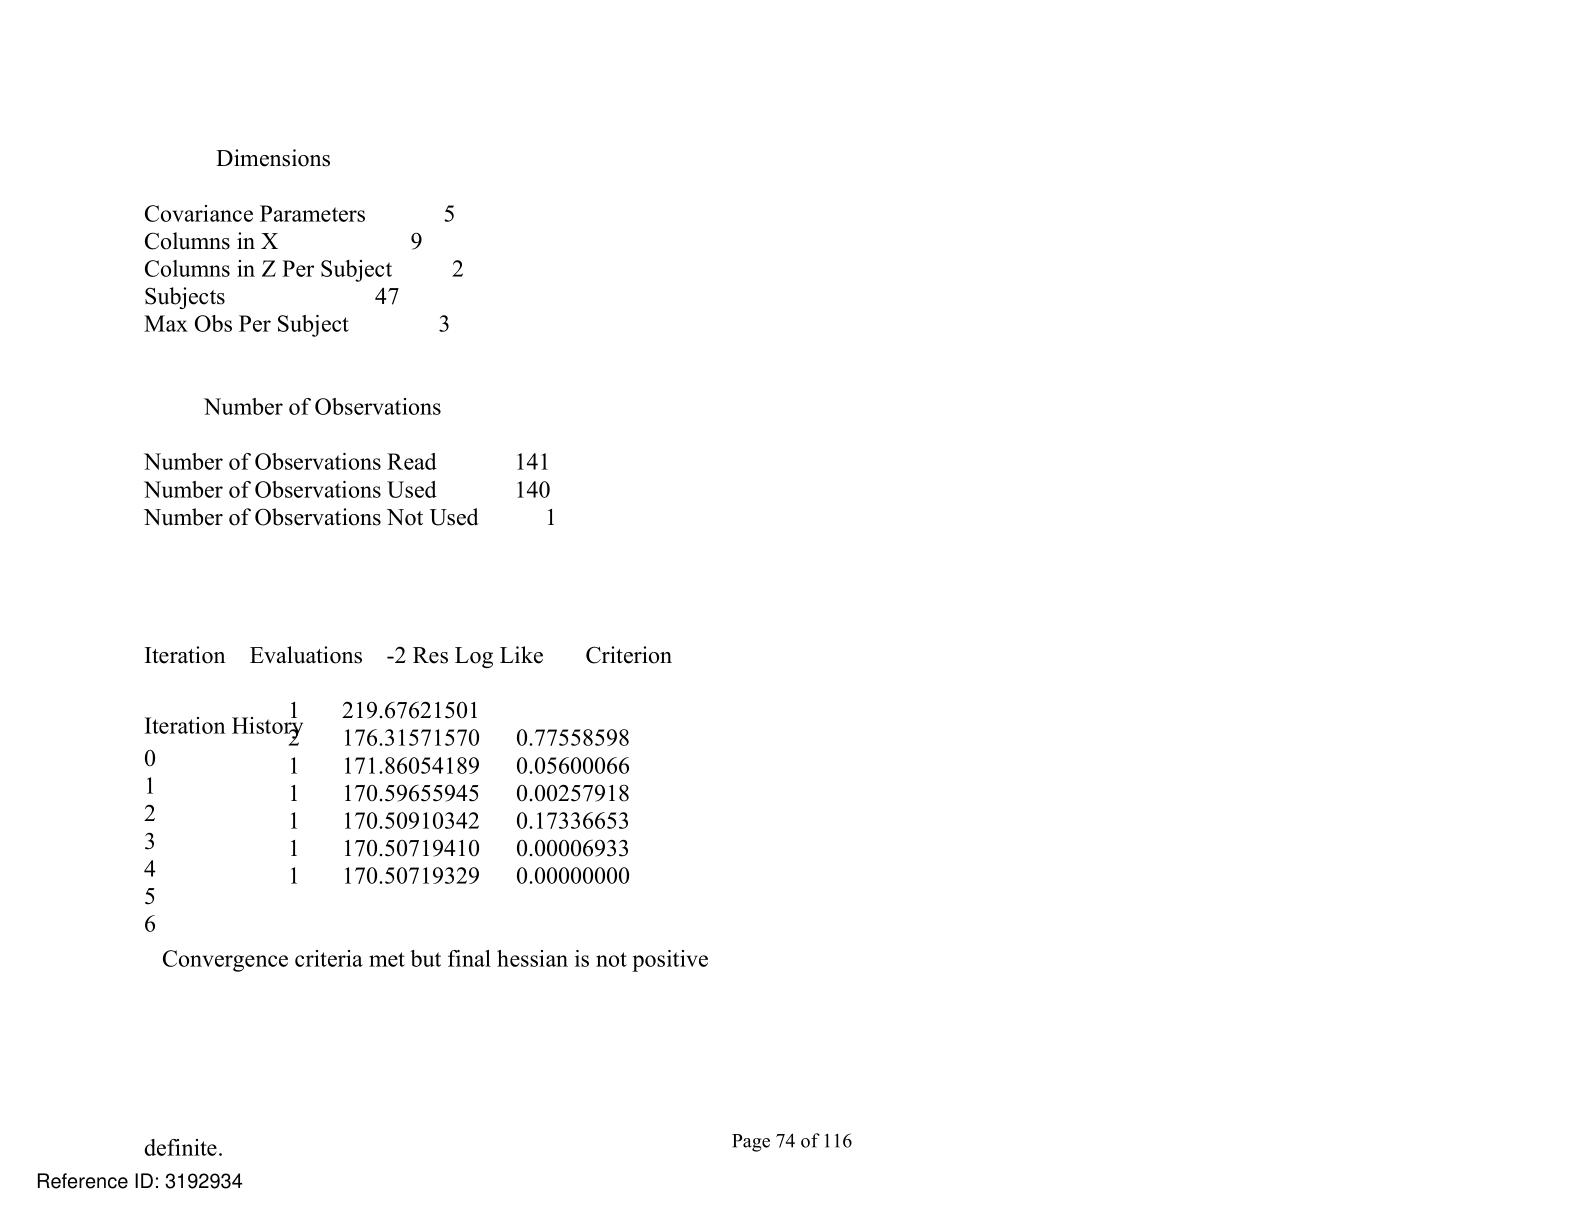nolines: (138, 642, 672, 933), (141, 201, 465, 343), (140, 446, 561, 534)
